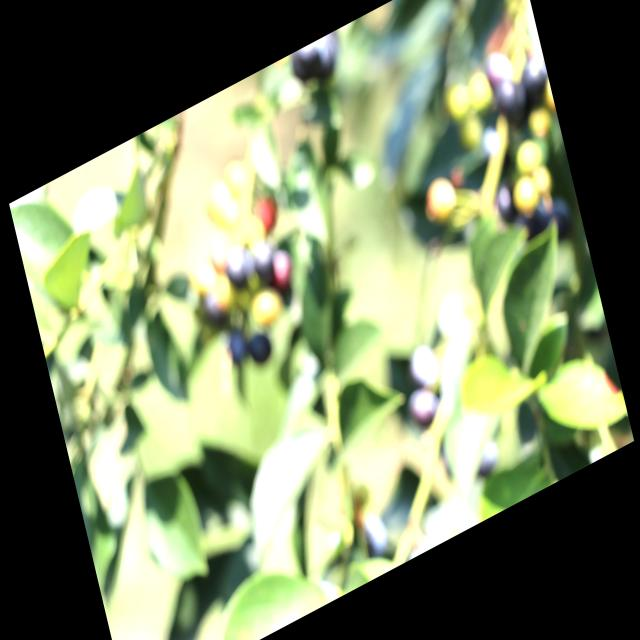blueberry: (403, 382, 440, 433), (220, 244, 255, 292), (253, 240, 277, 286)
blueberry-unripe: (417, 165, 464, 234), (509, 169, 544, 222), (512, 134, 544, 181), (251, 284, 283, 331)
